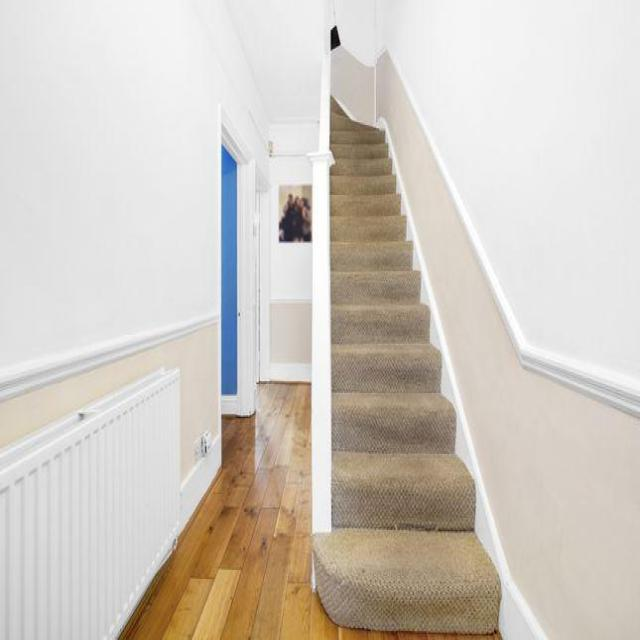Wall: (331, 0, 640, 637), (0, 3, 256, 380), (121, 382, 475, 639), (0, 324, 221, 483), (227, 0, 323, 123), (270, 156, 311, 382)
